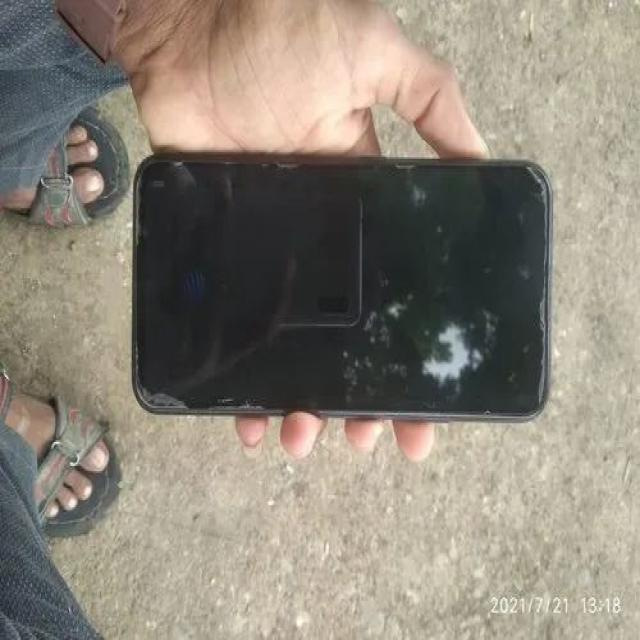mobile phone: (129, 150, 553, 423)
